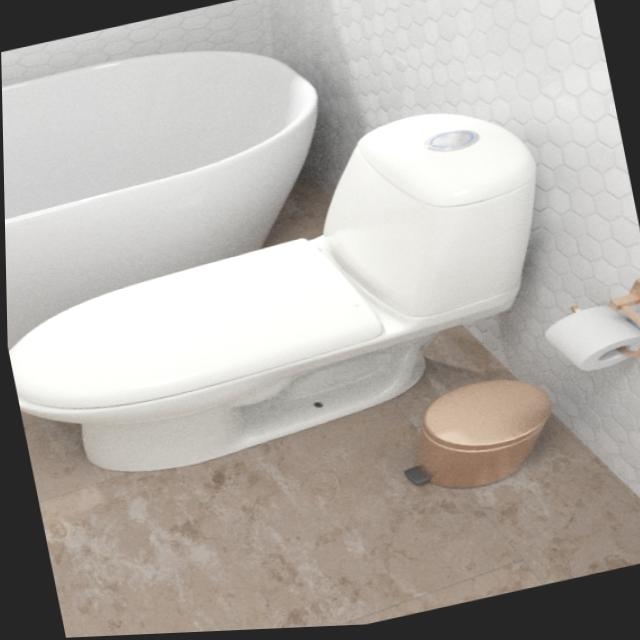toilet: (2, 93, 580, 499)
